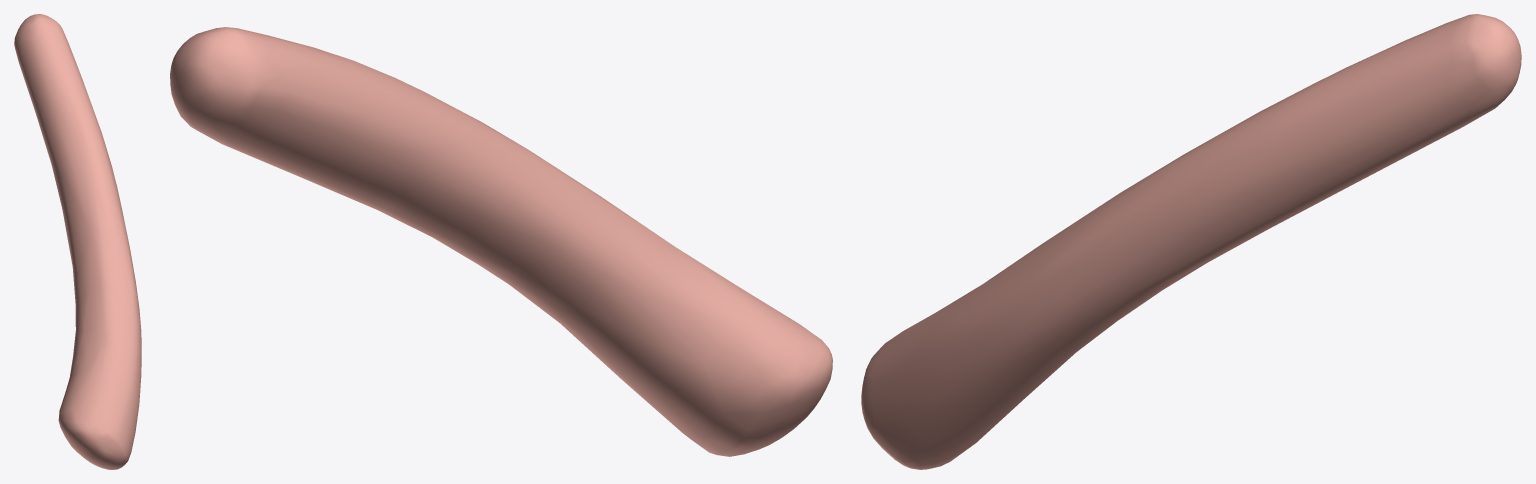
File: pv-left-inferior.glb
The picture shows the model from 3 angles, left to right: view 1: azimuth 30°, elevation 25°; view 2: azimuth 150°, elevation 25°; view 3: azimuth 270°, elevation 25°; orthographic projection. The views are drawn at different scales.
Visible parts, largest first — view 1: structure; view 2: structure; view 3: structure.
Boxes of the visible parts, box(x1,y1,x2,y2) form: structure: box(14, 14, 141, 469); structure: box(170, 27, 832, 456); structure: box(861, 14, 1521, 469).
Bounding box in the file's own units: 13.35 × 24.52 × 27.96.
